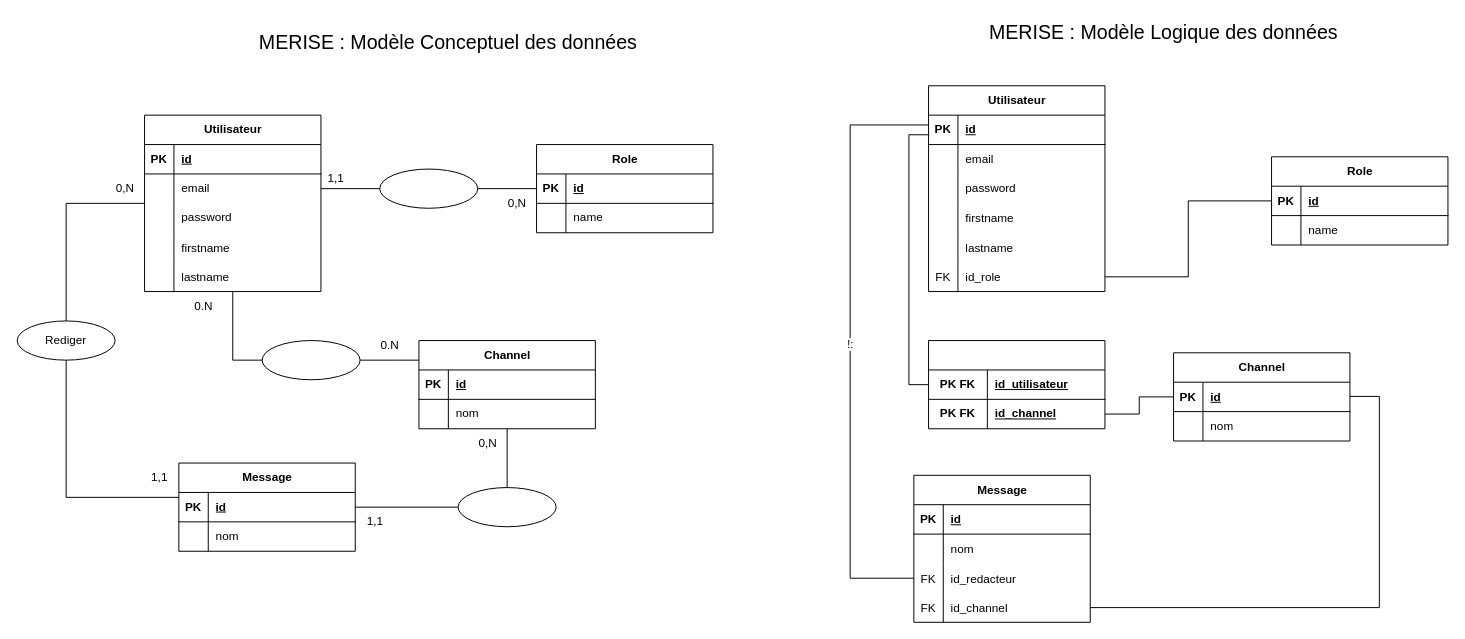
Image size: 1465x639. Some labels were removed from this diagram. The shapes that lost their labels are listed below. From the top down, each one's box as (x1, y1, x2, y2) in pixels, then its label:
(379, 168, 478, 208): Possèder
(261, 340, 360, 380): Participer
(928, 340, 1105, 429): Channel_Utilisateur
(457, 487, 556, 527): Contenir
